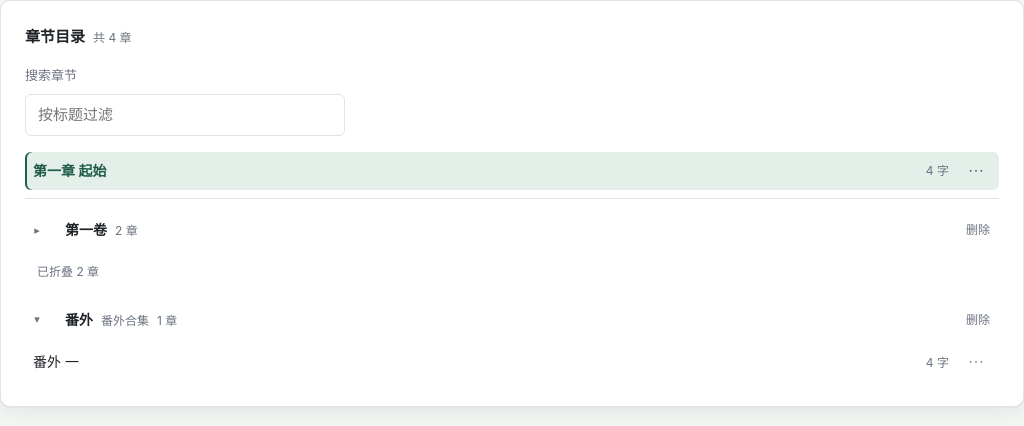
Test: ChapterTree › restores the full list and collapse state after clearing the search
In the search field with test id "search": (185, 115) [25, 94, 345, 136], type "第三章"
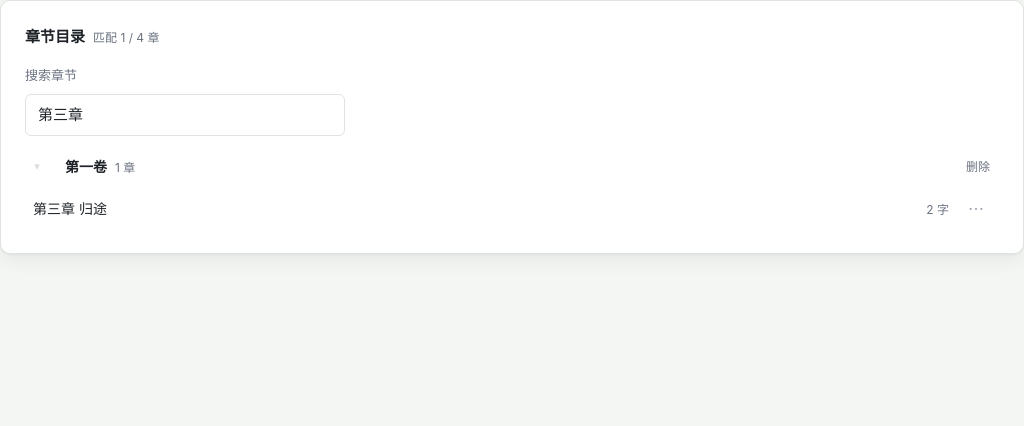
Clear the search field with test id "search": (185, 115) [25, 94, 345, 136]
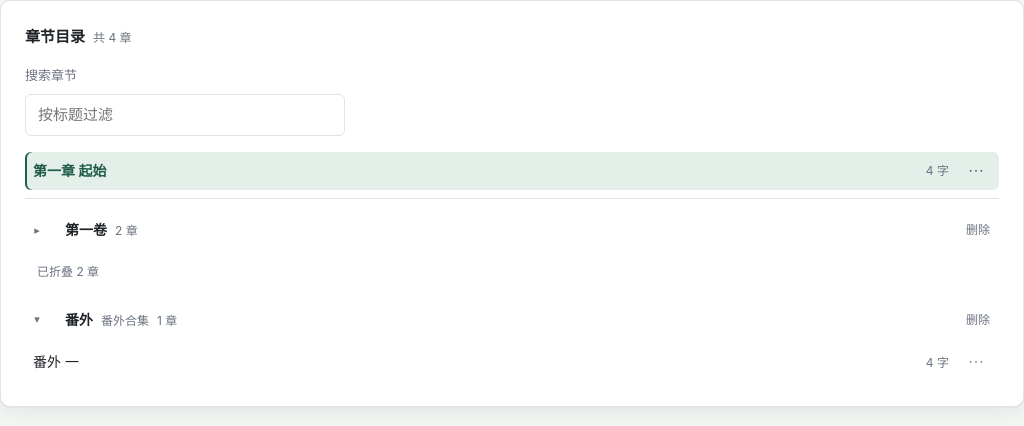
Expected: the text with test id "chapter-count" reads "共 4 章", [93, 30, 132, 45]
